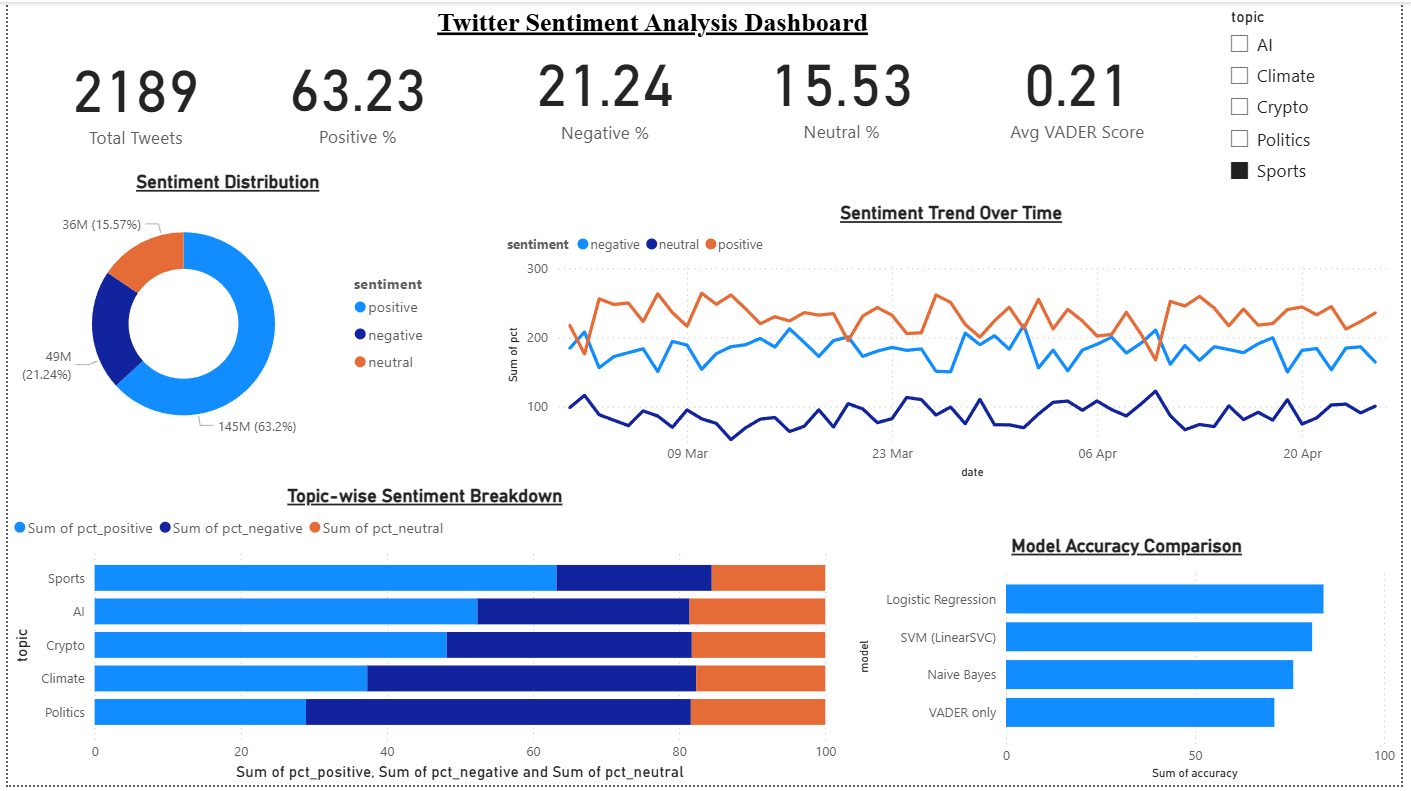

Layout of this report page (visuals, bound fields, positions):
{"tool":"powerbi","page":{"name":"Page 1","canvas":[1280,720],"ordinal":0},"visuals":[{"type":"card","fields":{"Values":["Fact_Tweets.Total Tweets"]},"box":[9.6,0,216.9,171.4],"z":0},{"type":"card","fields":{"Values":["Fact_Tweets.Positive %"]},"box":[226.5,0,190.6,170.2],"z":1000},{"type":"card","fields":{"Values":["Fact_Tweets.Negative %"]},"box":[444.6,1.2,208.5,159.4],"z":2000},{"type":"card","fields":{"Values":["Fact_Tweets.Neutral %"]},"box":[667.6,0,197.8,160.6],"z":3000},{"type":"card","fields":{"Values":["Fact_Tweets.Avg VADER Score"]},"box":[884.5,0,196.6,160.6],"z":4000},{"type":"donutChart","title":"Sentiment Distribution","fields":{"Category":["Fact_Tweets.sentiment"],"Y":["Sum(Fact_Tweets.tweet_id)"]},"box":[0,154.6,403.9,262.5],"z":5000},{"type":"slicer","fields":{"Values":["Fact_Tweets.topic"]},"box":[1110.8,0,168.9,224],"z":6000},{"type":"barChart","title":"Topic-wise Sentiment Breakdown","fields":{"Category":["Topic_KPIs.topic"],"Y":["Sum(Topic_KPIs.pct_positive)","Sum(Topic_KPIs.pct_negative)","Sum(Topic_KPIs.pct_neutral)"]},"box":[0,443.4,766.2,276.8],"z":7000},{"type":"clusteredBarChart","title":"Model Accuracy Comparison","fields":{"Category":["Model_Metrics.model"],"Y":["Sum(Model_Metrics.accuracy)"]},"box":[776.5,489.3,503.1,230.9],"z":8000},{"type":"lineChart","title":"Sentiment Trend Over Time","fields":{"Category":["Daily_Sentiment.date"],"Y":["Sum(Daily_Sentiment.pct)"],"Series":["Daily_Sentiment.sentiment"]},"box":[453.7,183.8,825.9,259.6],"z":8001},{"type":"textbox","box":[389.4,0,425,41.4],"z":8002}]}

Visuals, with their boxes in screenshot pixels (x1, y1, x2, y2), scaled from the page's 1280x720 canvas onto the 1411x791 screenshot:
card - Fact_Tweets.Total Tweets: rect(11, 0, 250, 188)
card - Fact_Tweets.Positive %: rect(250, 0, 460, 187)
card - Fact_Tweets.Negative %: rect(490, 1, 720, 176)
card - Fact_Tweets.Neutral %: rect(736, 0, 954, 176)
card - Fact_Tweets.Avg VADER Score: rect(975, 0, 1192, 176)
"Sentiment Distribution" donutChart: rect(0, 170, 445, 458)
slicer - Fact_Tweets.topic: rect(1224, 0, 1410, 246)
"Topic-wise Sentiment Breakdown" barChart: rect(0, 487, 845, 790)
"Model Accuracy Comparison" clusteredBarChart: rect(856, 538, 1410, 790)
"Sentiment Trend Over Time" lineChart: rect(500, 202, 1410, 487)
textbox: rect(429, 0, 898, 45)
